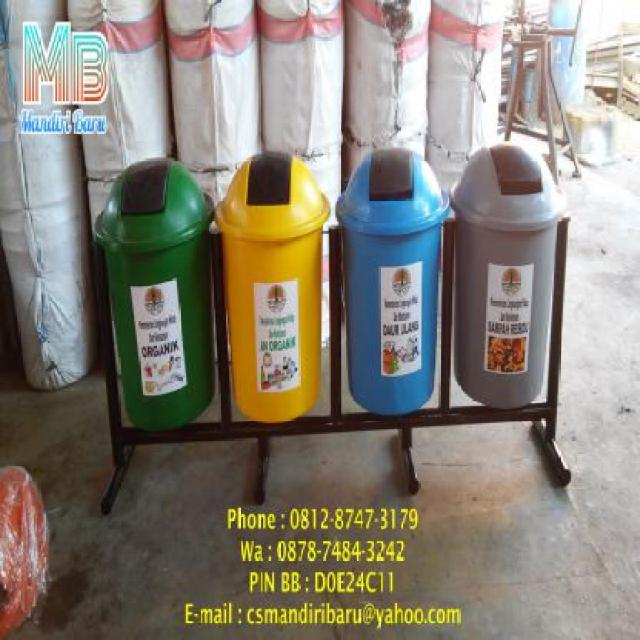garbage container: (90, 155, 222, 439), (216, 144, 335, 445), (335, 141, 451, 428), (452, 136, 570, 418)
